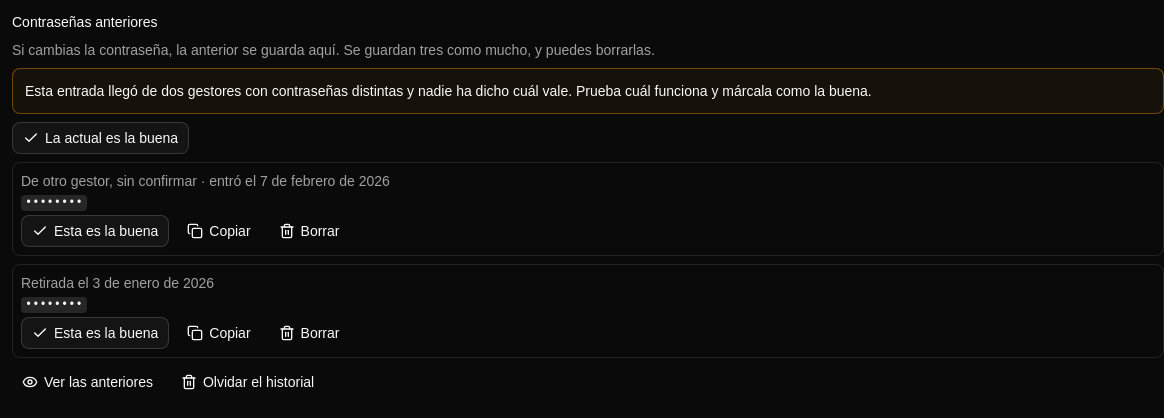
Test case: the password history of an entry › does not paint the old passwords until somebody asks
Expected: the text "de-otro-gestor" is not shown
Step 1. Click the button "Ver las anteriores" → coordinates (88, 382), box [12, 366, 163, 398]
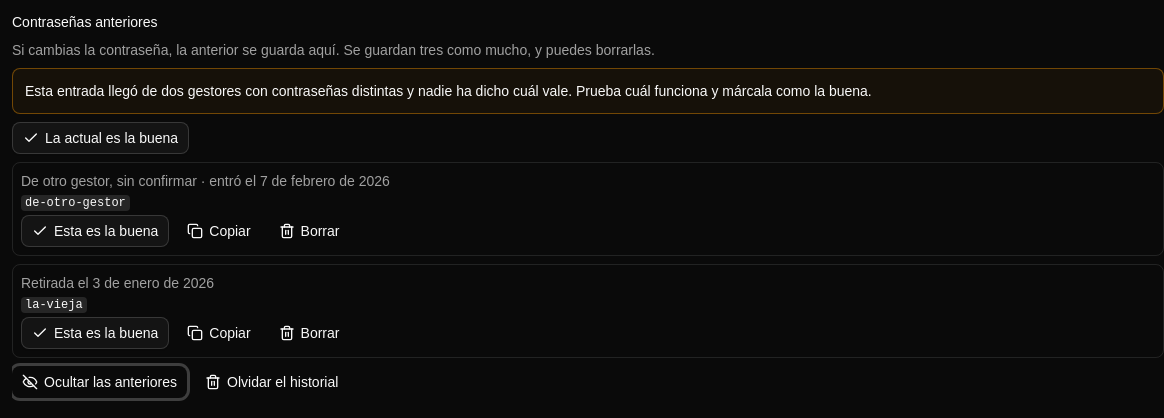
Result: the text "de-otro-gestor" is shown at [21, 195, 130, 211]
Result: the text "la-vieja" is shown at [21, 297, 87, 313]
